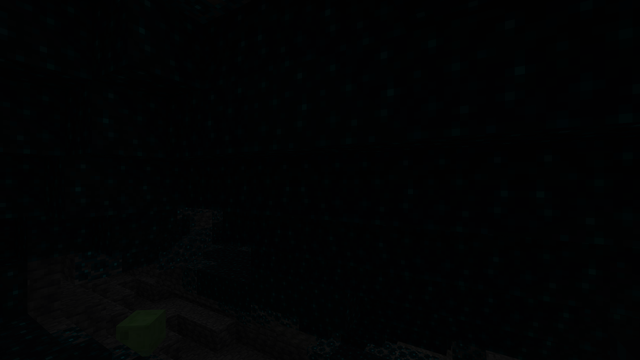slimes: (116, 305, 166, 351)
